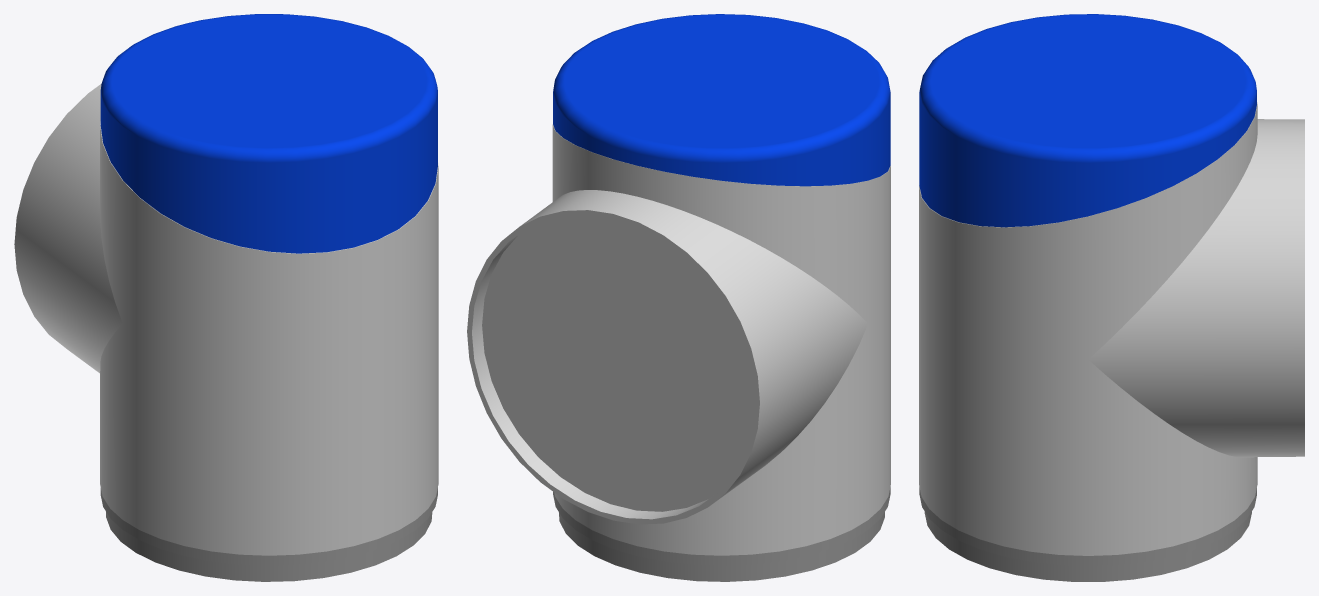
The picture shows the model from 3 angles, left to right: view 1: azimuth 30°, elevation 25°; view 2: azimuth 150°, elevation 25°; view 3: azimuth 270°, elevation 25°; orthographic projection.
Visible parts, largest first — view 1: NONE; view 2: NONE; view 3: NONE.
Boxes of the visible parts, x1,y1,x2,y2 form: NONE: (14,14,438,581); NONE: (467,14,890,581); NONE: (919,14,1304,581).
Bounding box in the file's own units: 0.15 × 0.171 × 0.211.
